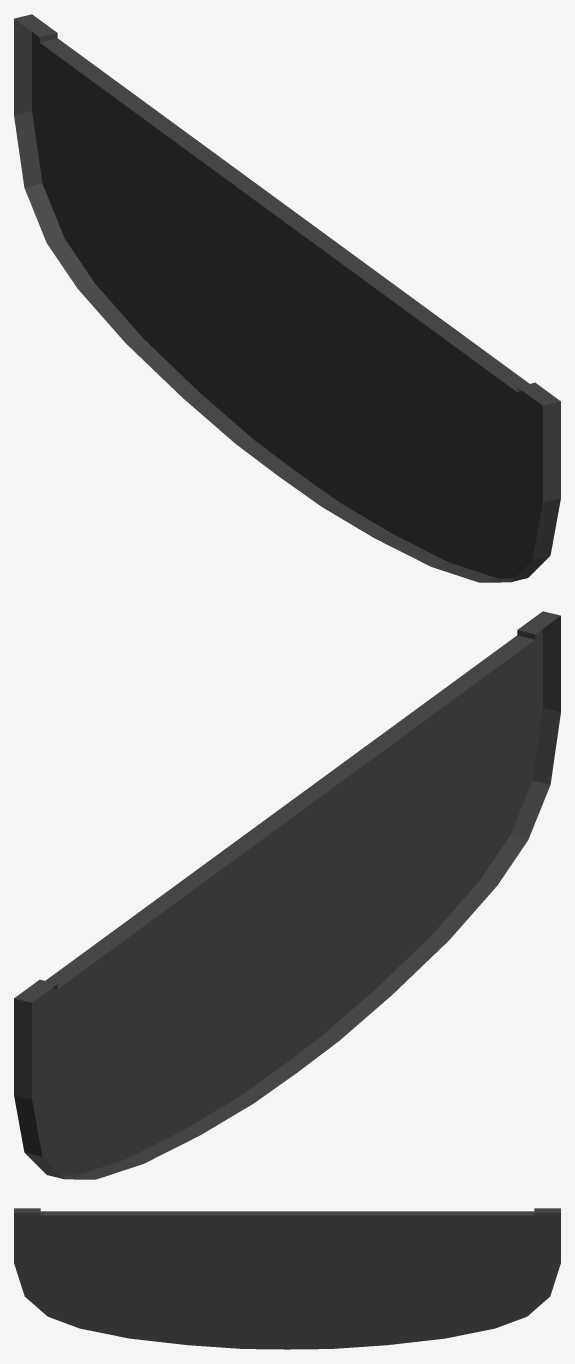
File: Japan_Road_Cap.FBX
3 renders of one model, top to bottom at view 1: azimuth 30°, elevation 25°; view 2: azimuth 150°, elevation 25°; view 3: azimuth 270°, elevation 25°, orthographic. The views are drawn at different scales.
Parts seen in each view (by area): view 1: Object035; view 2: Object035; view 3: Object035.
Part boxes in pixels (<box>): Object035: <box>14,14,560,582</box>; Object035: <box>14,611,560,1179</box>; Object035: <box>14,1208,560,1349</box>.
Bounding box in the file's own units: 11.08 × 155 × 562.
